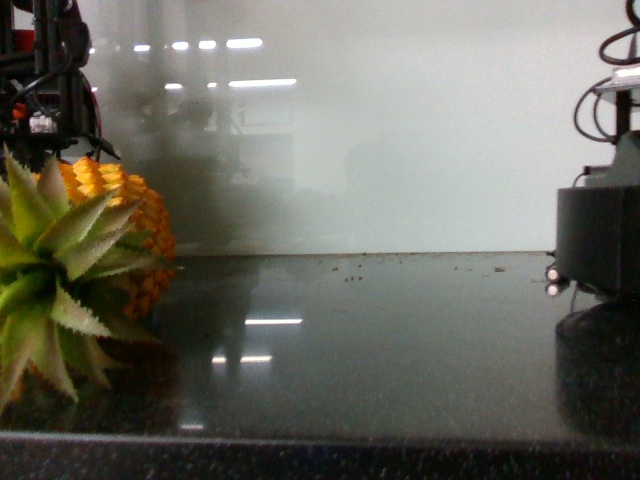pineapple: (4, 143, 180, 423)
